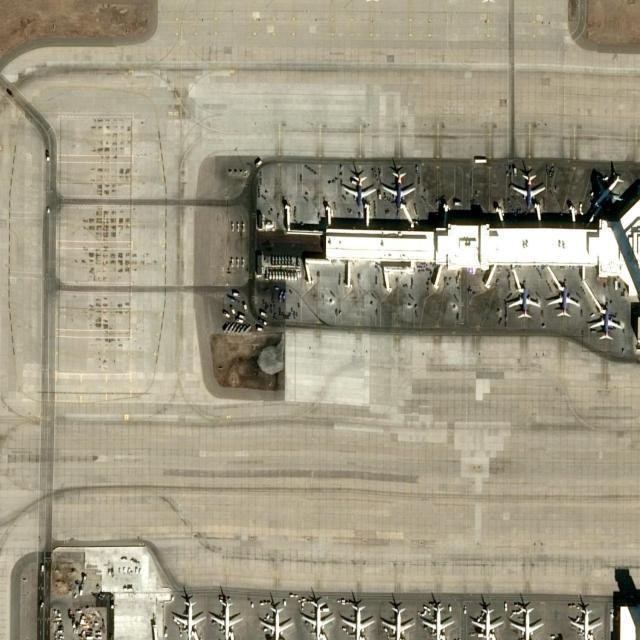Aircraft: (586, 167, 624, 211), (338, 598, 375, 640), (302, 595, 336, 640), (337, 170, 375, 210), (545, 277, 581, 319), (209, 597, 243, 640), (258, 599, 294, 639), (381, 167, 415, 209), (172, 597, 206, 639), (587, 300, 621, 340), (509, 170, 545, 207), (381, 601, 414, 640), (421, 603, 455, 640), (568, 603, 602, 639), (470, 606, 505, 640), (508, 281, 538, 320), (510, 605, 543, 640)
